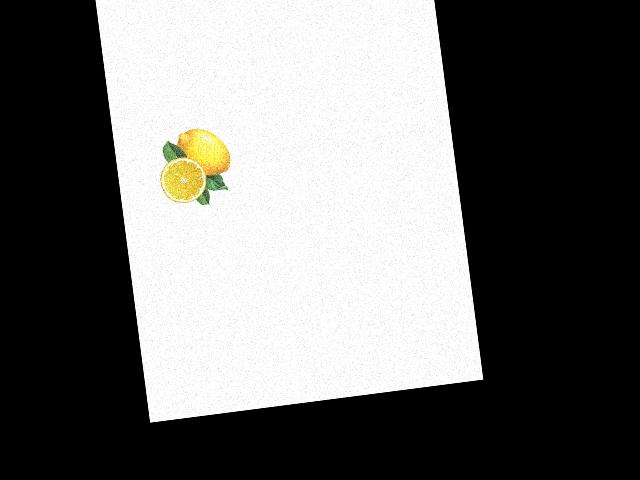lemon: (173, 125, 232, 181)
